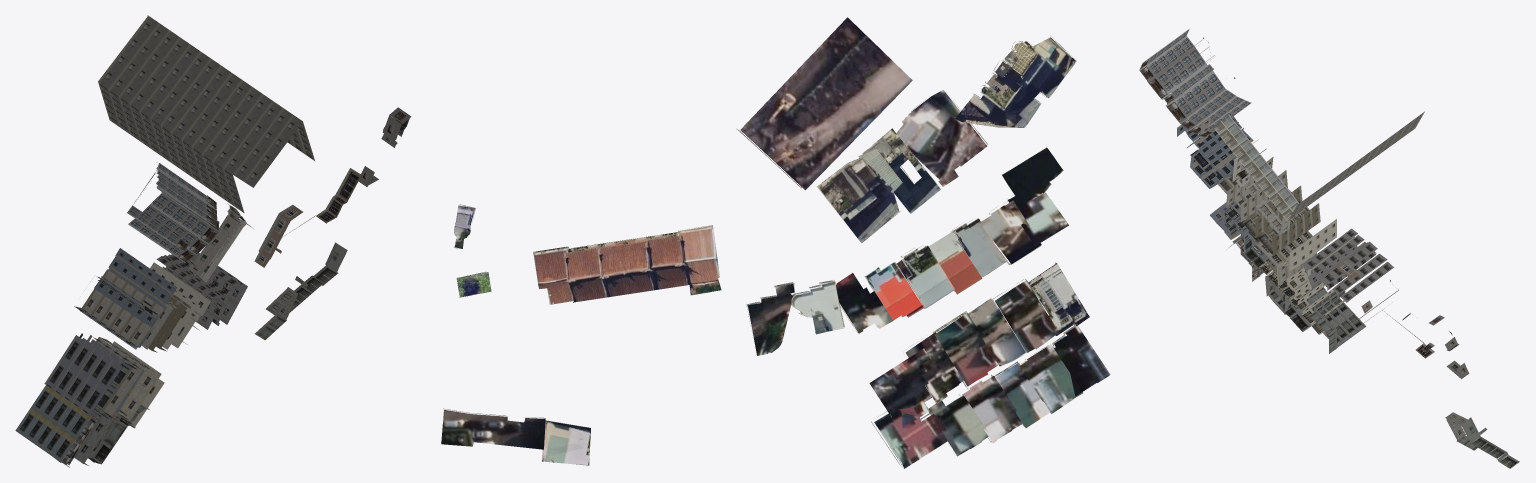
Rendered from tile_LOD4_r8_c14.glb.
The picture shows the model from 3 angles, left to right: view 1: azimuth 30°, elevation 25°; view 2: azimuth 150°, elevation 25°; view 3: azimuth 270°, elevation 25°; orthographic projection. The views are drawn at different scales.
Bounding box in the file's own units: 150 × 120 × 117.
Materials: 115 (115 with a texture image).
